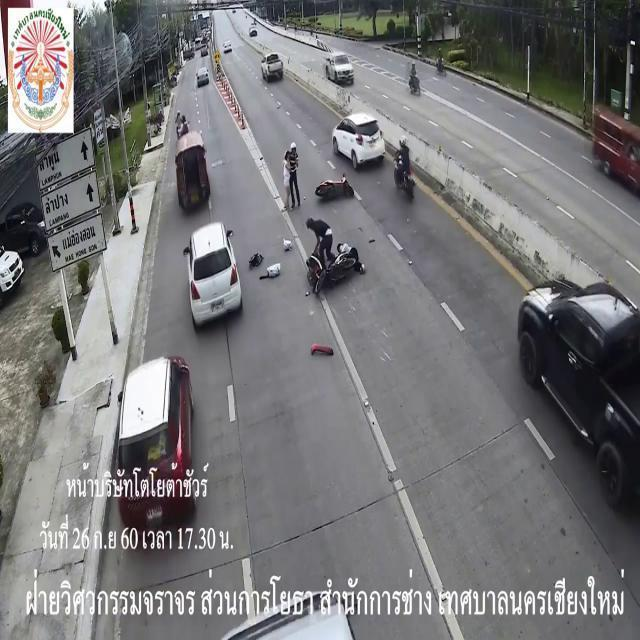non-accident: (250, 172, 376, 298), (174, 112, 212, 216), (184, 34, 208, 61)
